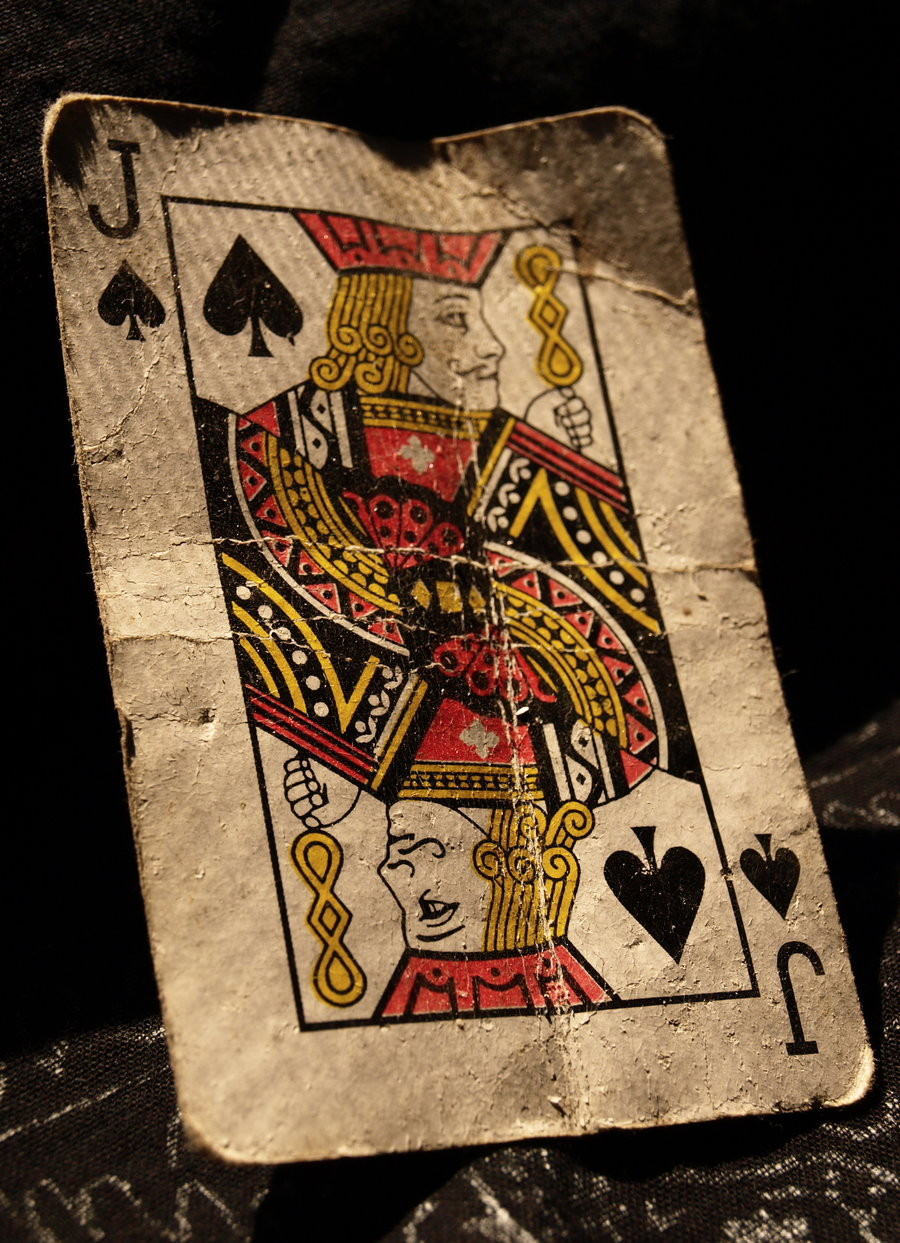jack of spades: (37, 102, 872, 1157)
